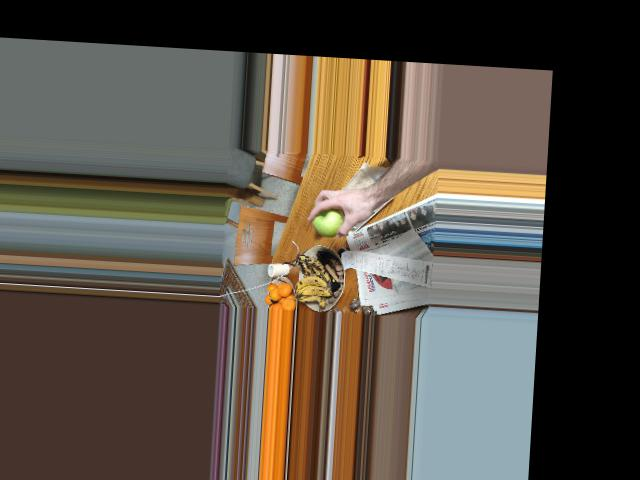apple: (307, 202, 347, 238)
